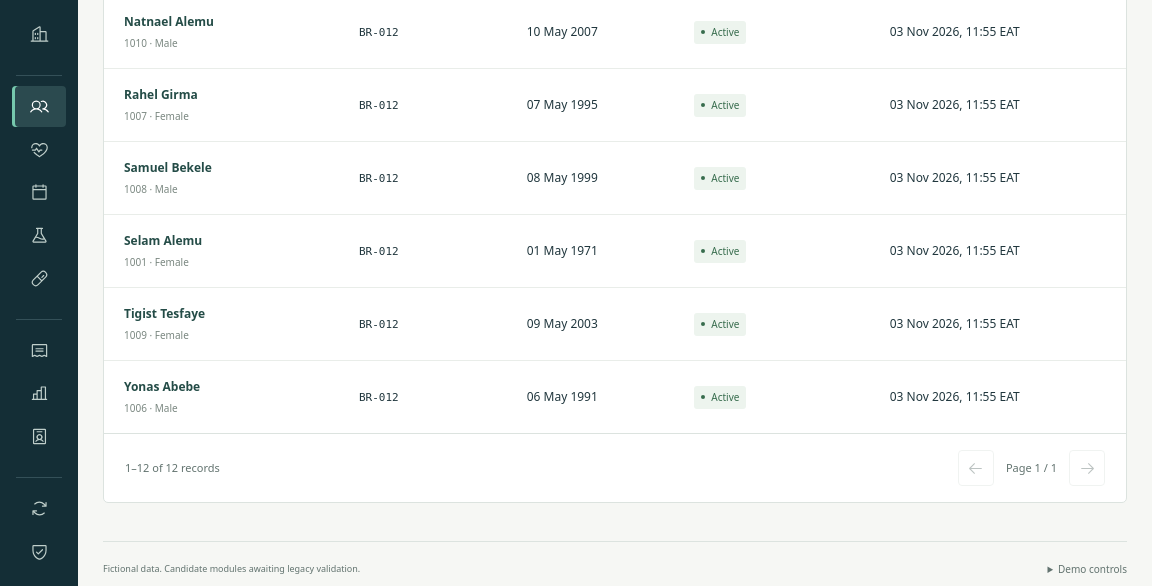
Test: critical portal journeys › simulates a service error and recovers when the demo control is cleared
(page scrolled)
Expected: the link "Selam Alemu 1001 · Female" is shown, [124,232,202,269]
Click the heading "Demo controls" at (1087, 570), box [1048,562,1127,577]
(page scrolled)
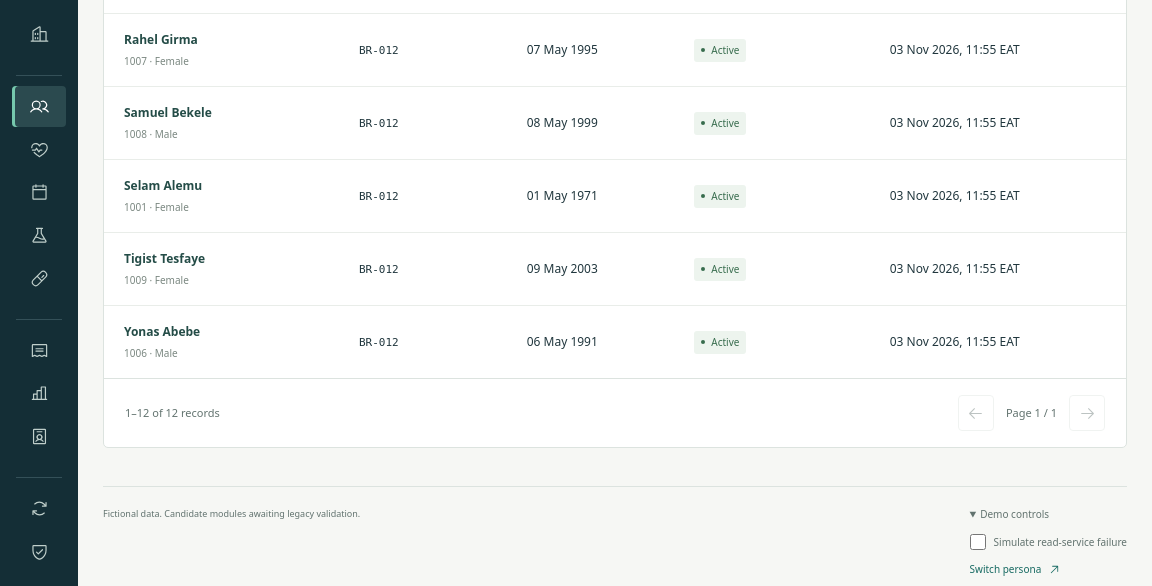
Click the checkbox labelled "Simulate read-service failure" at (978, 542), box [970,534,986,550]
(page scrolled)
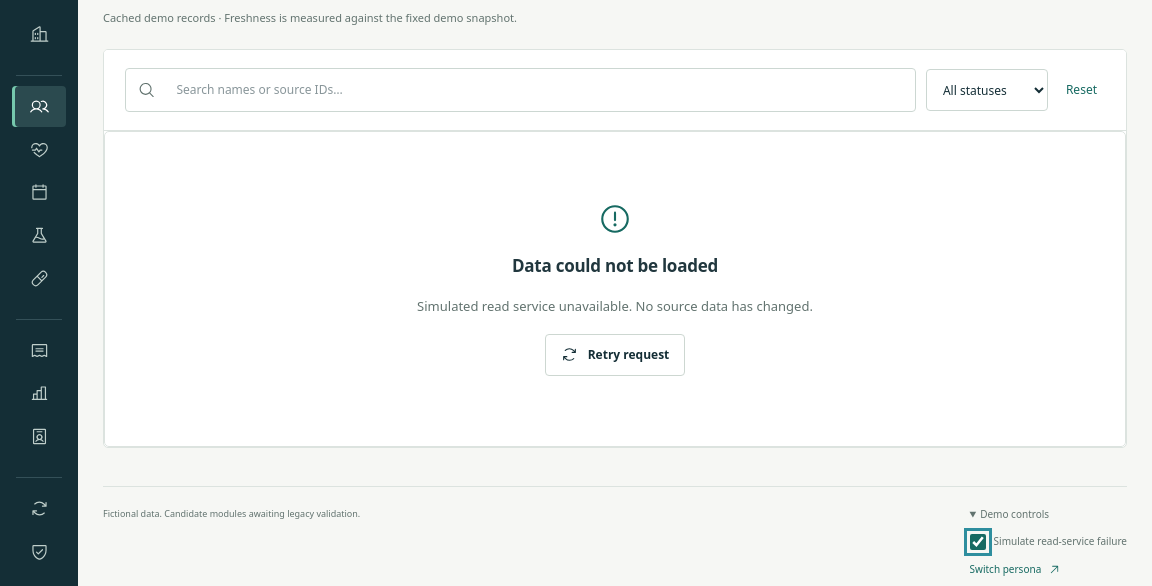
Now the heading "Data could not be loaded" is shown, box [512,253,718,278]
Click the checkbox labelled "Simulate read-service failure" at (978, 542), box [970,534,986,550]
(page scrolled)
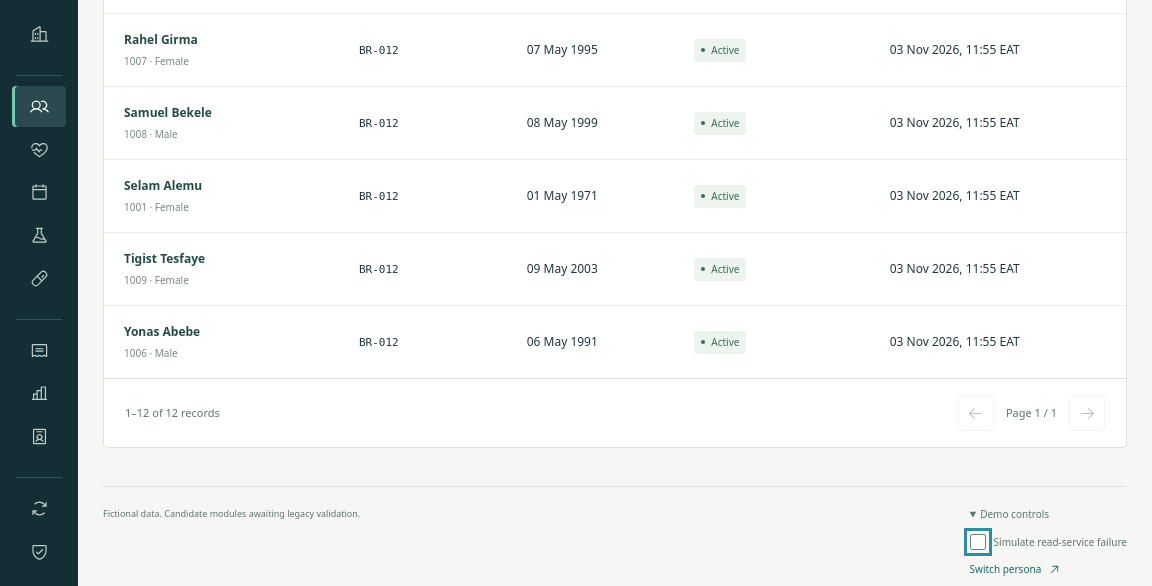
Now the link "Selam Alemu 1001 · Female" is shown, box [124,177,202,214]
